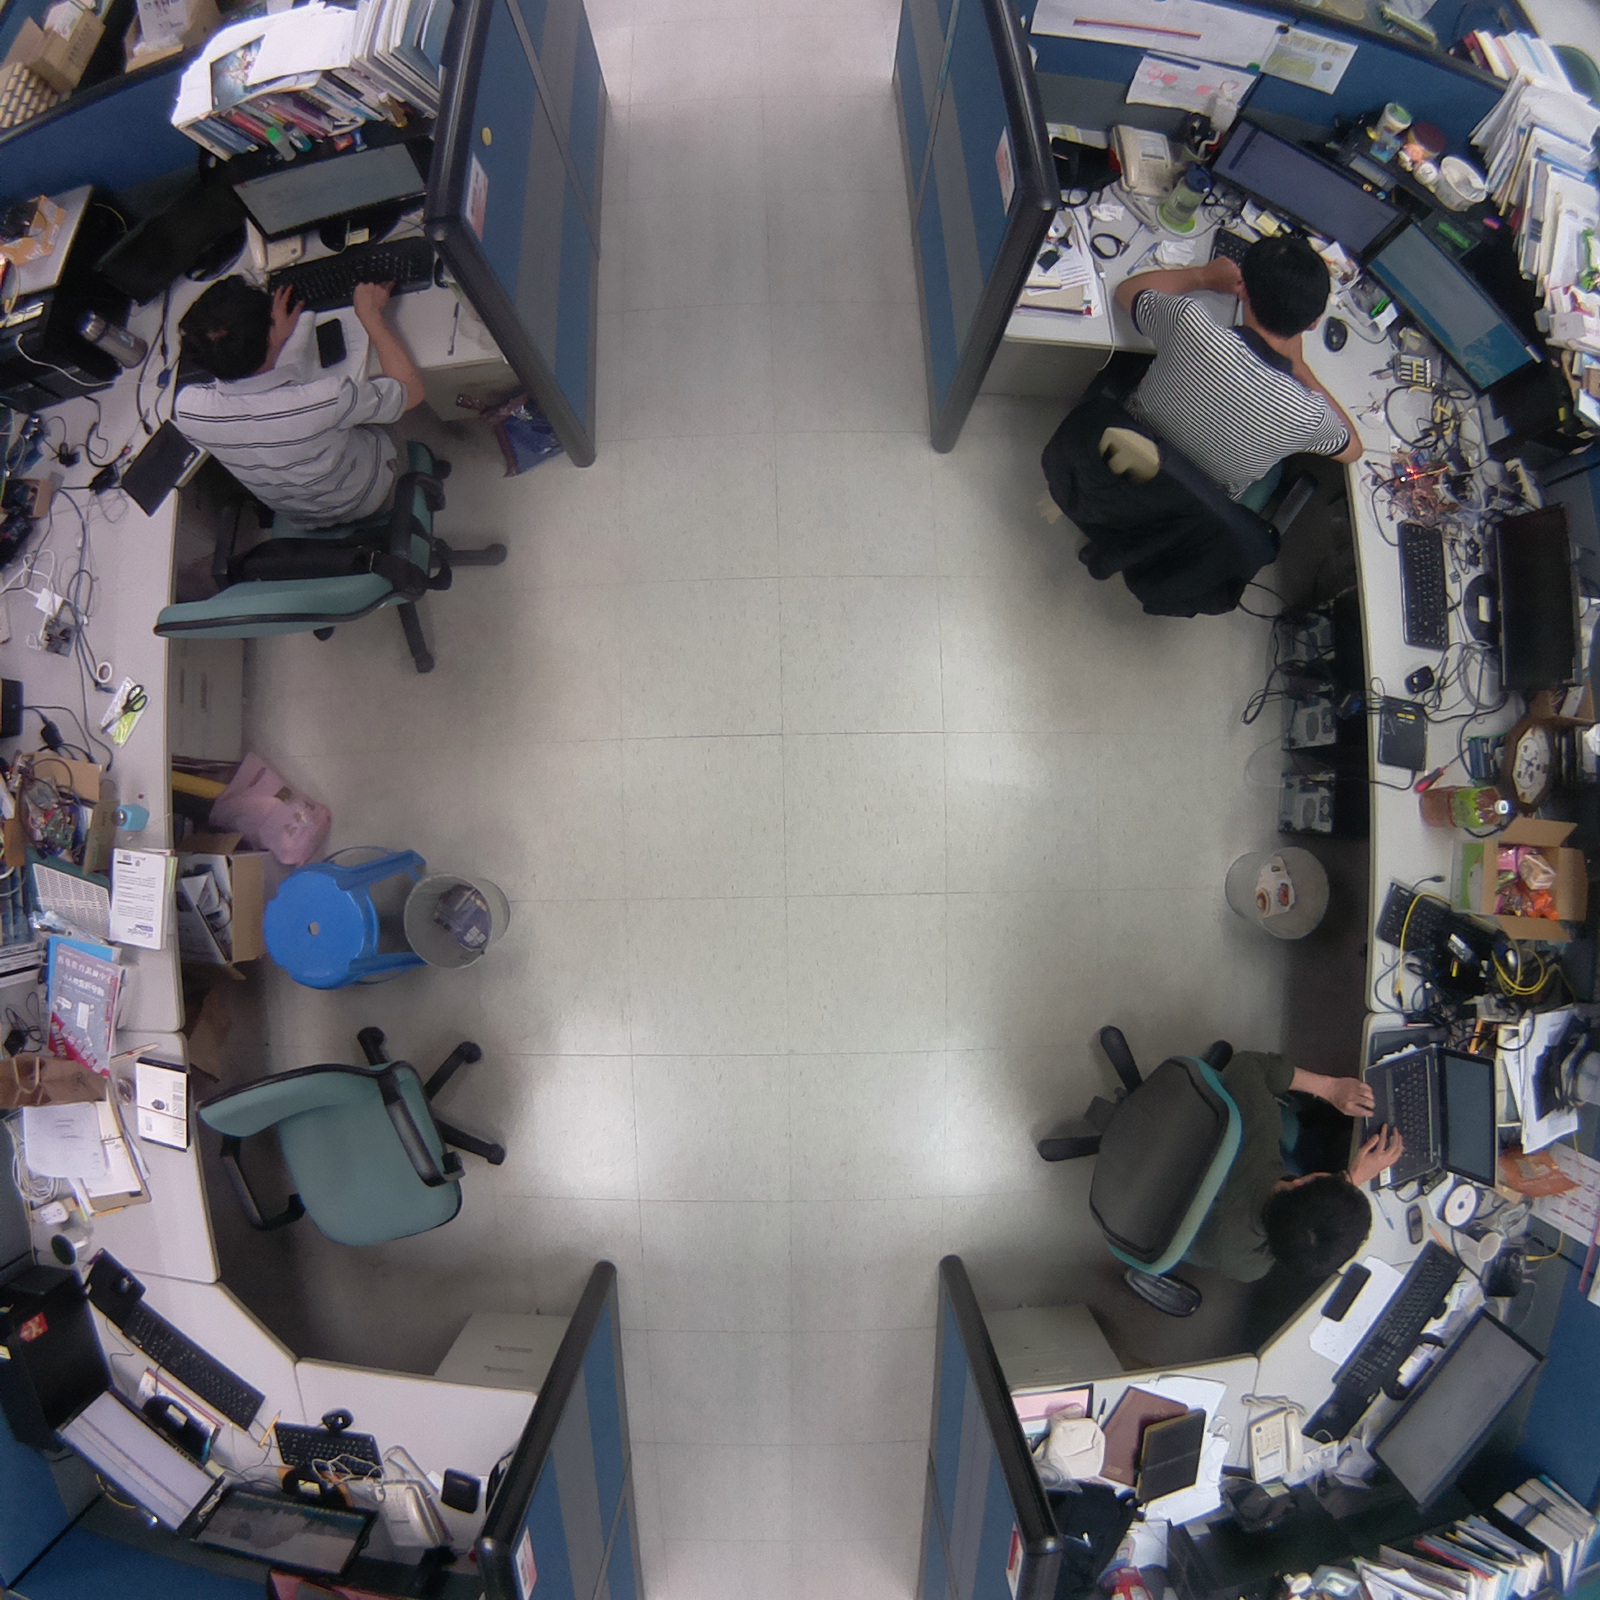chair: (183, 1001, 524, 1263)
head: (1259, 1170, 1376, 1289), (1232, 227, 1338, 340), (178, 272, 280, 385)
sitting: (127, 264, 524, 691), (1022, 220, 1370, 637), (1027, 1006, 1412, 1322)
